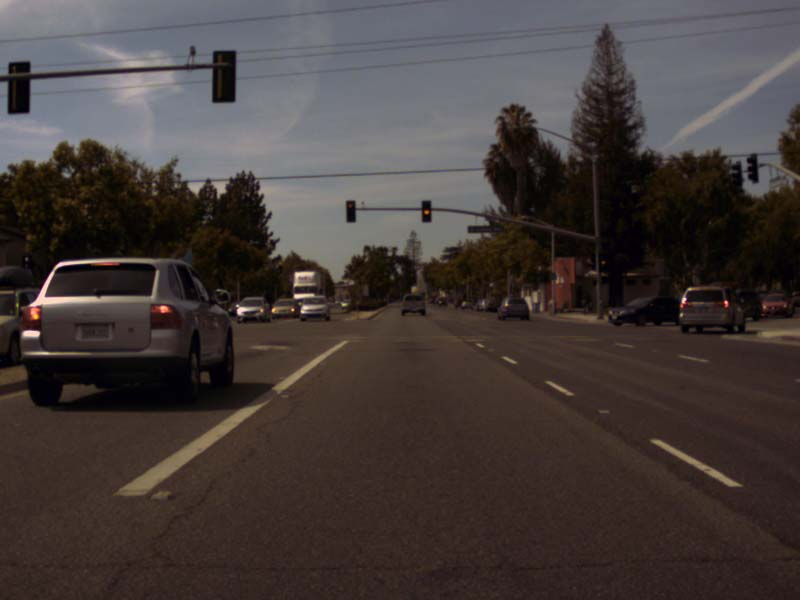Red: (22, 256, 32, 275), (347, 201, 354, 220)
Yellow: (422, 201, 429, 221), (599, 254, 607, 270)
